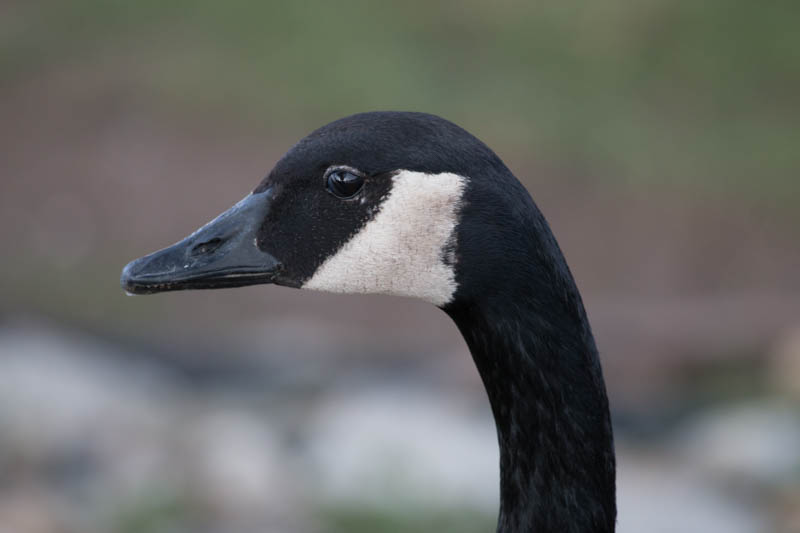goose-head: (120, 112, 583, 309)
